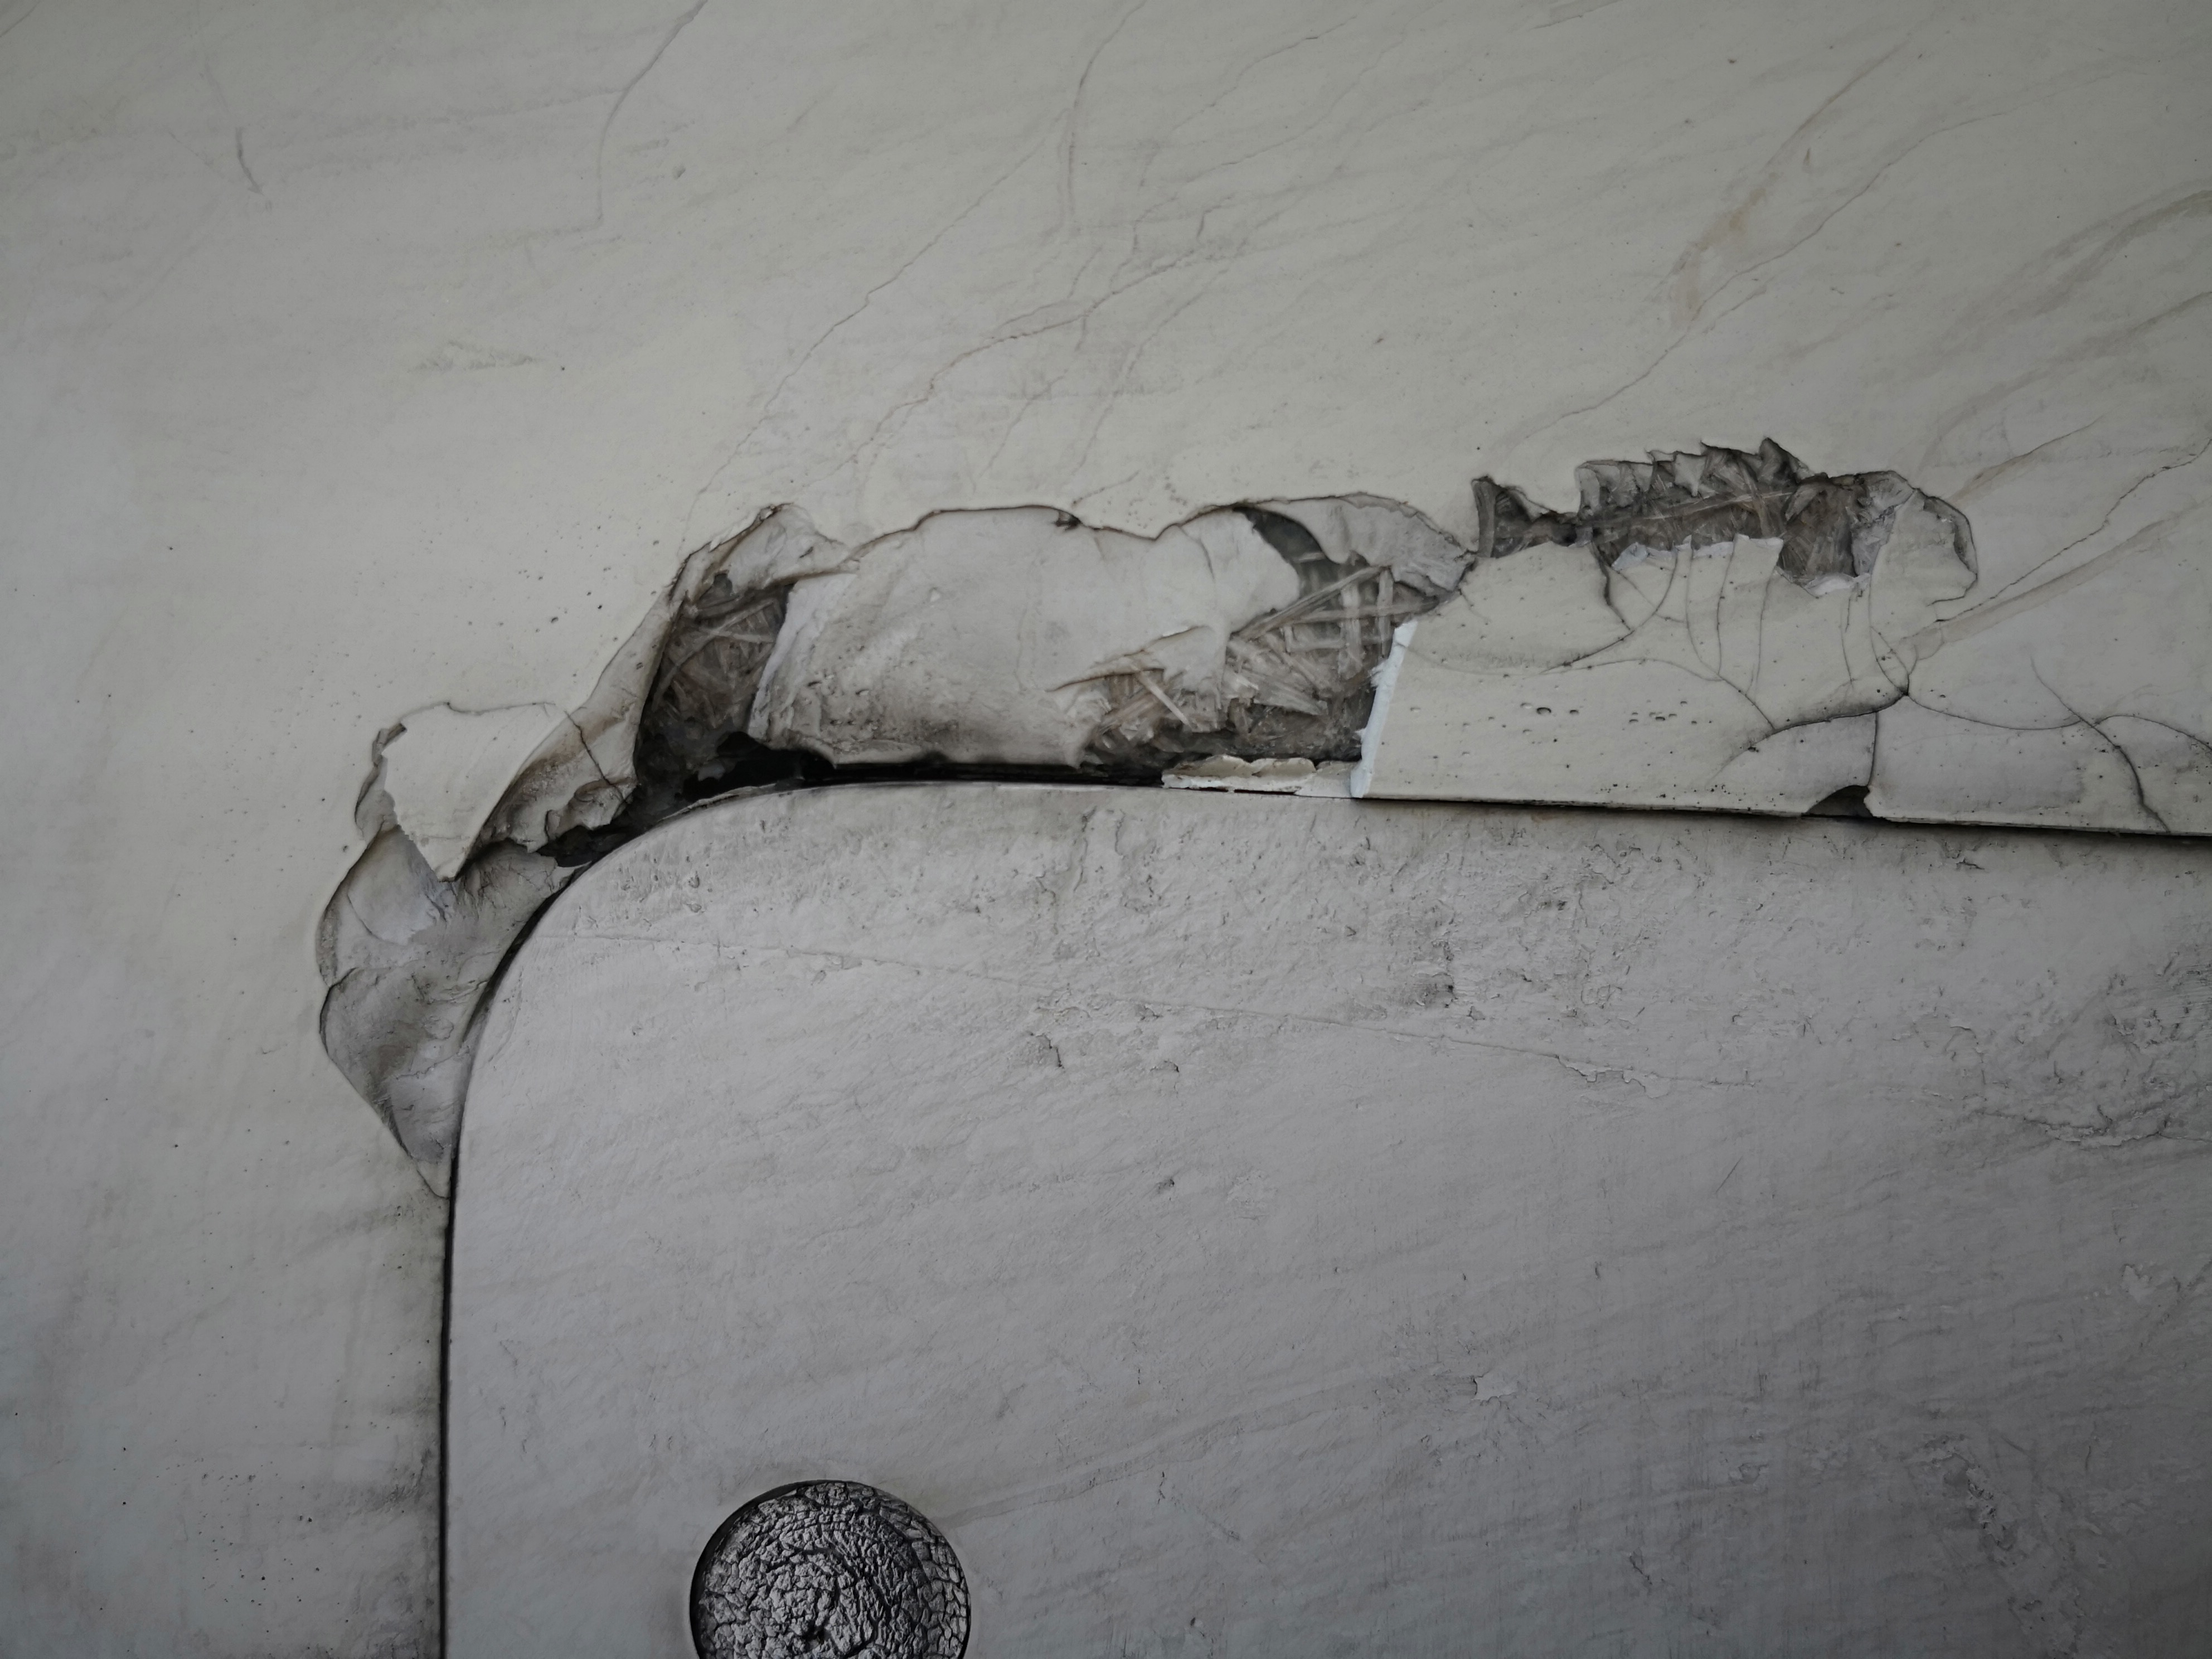B&C: (233, 476, 2212, 1222)
